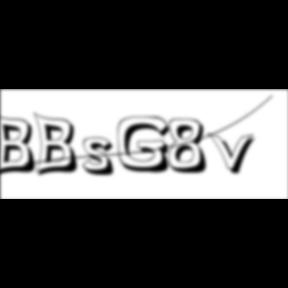8: (168, 117, 214, 176)
B: (34, 111, 84, 179), (0, 111, 42, 179)
G: (117, 116, 176, 176)
s: (83, 137, 122, 179)
v: (208, 131, 262, 177)
